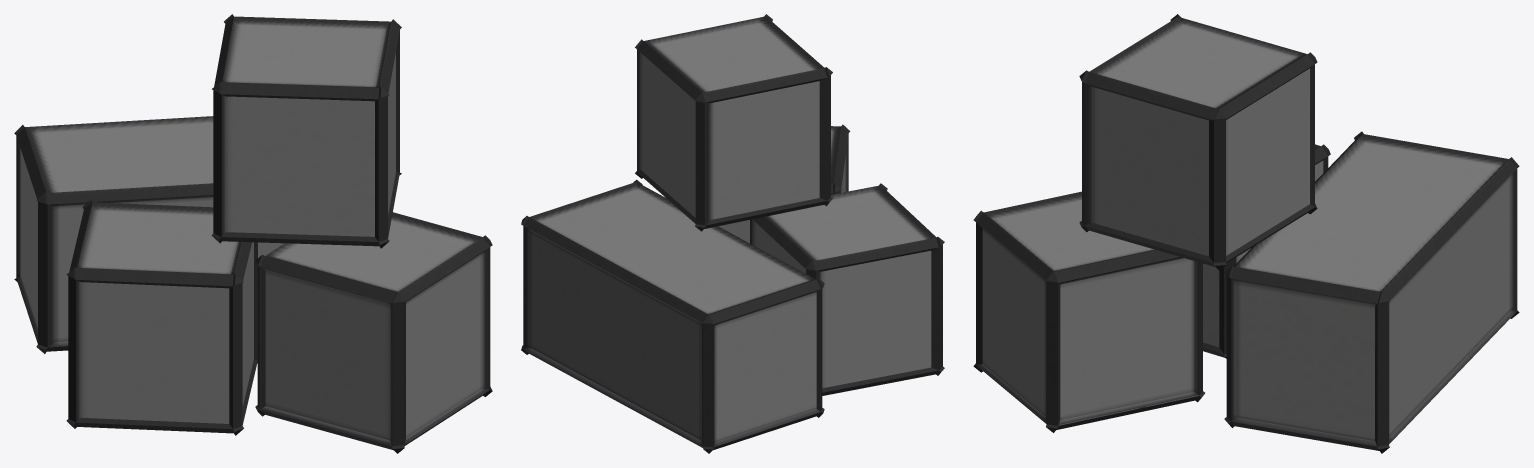
File: Storage_Crates_08.fbx
3 views of the same model, side by side, from view 1: azimuth 30°, elevation 25°; view 2: azimuth 150°, elevation 25°; view 3: azimuth 270°, elevation 25° (orthographic). The views are drawn at different scales.
Visible parts, largest first — view 1: Storage_Crates_08; view 2: Storage_Crates_08; view 3: Storage_Crates_08.
Boxes of the visible parts, bbox=[...] form: Storage_Crates_08: bbox=[14, 14, 492, 453]; Storage_Crates_08: bbox=[521, 14, 944, 453]; Storage_Crates_08: bbox=[973, 14, 1519, 453].
Size of the model in its own units: 685 by 529 by 818.
